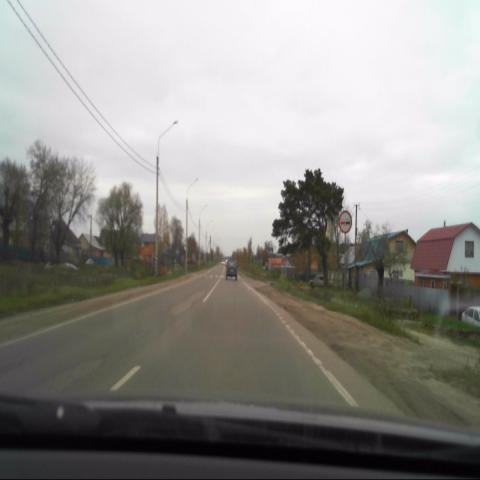3_20: (338, 210, 352, 233)
